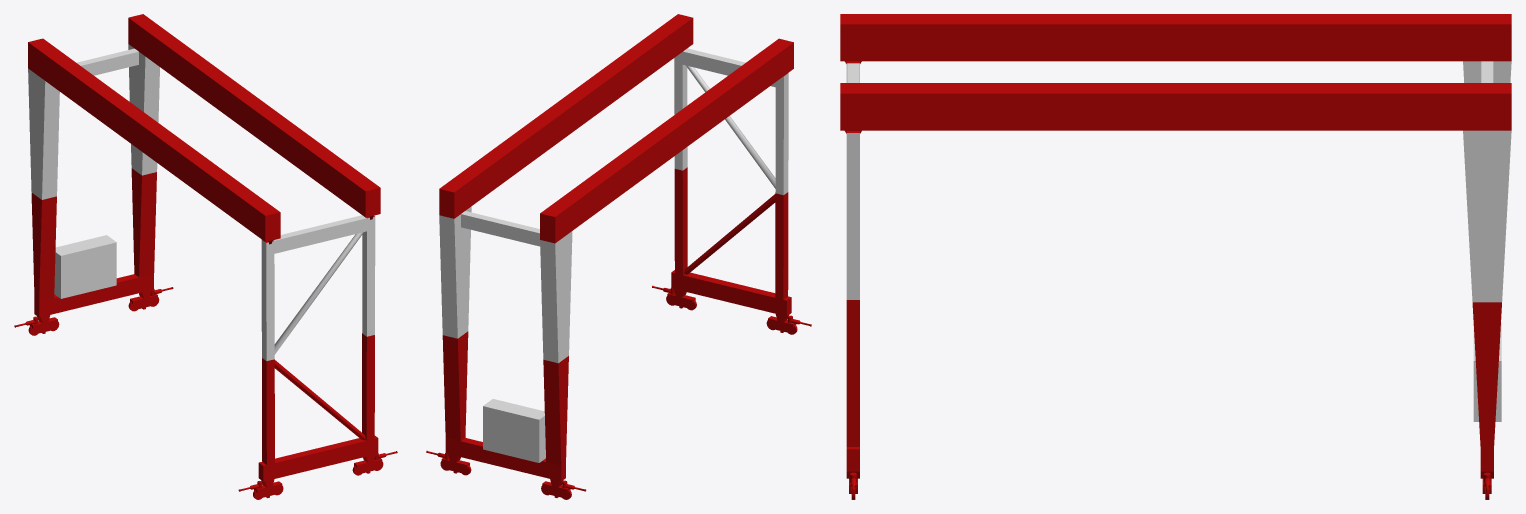
Rendered from ASCGantry.FBX.
3 views of the same model, side by side, from view 1: azimuth 30°, elevation 25°; view 2: azimuth 150°, elevation 25°; view 3: azimuth 270°, elevation 25° (orthographic). The views are drawn at different scales.
Visible parts, largest first — view 1: ASC_Gantry; view 2: ASC_Gantry; view 3: ASC_Gantry.
Boxes of the visible parts, bbox=[...] form: ASC_Gantry: bbox=[14, 14, 397, 499]; ASC_Gantry: bbox=[426, 14, 811, 499]; ASC_Gantry: bbox=[840, 14, 1511, 499].
Bounding box in the file's own units: 1260 × 2187 × 3283.
